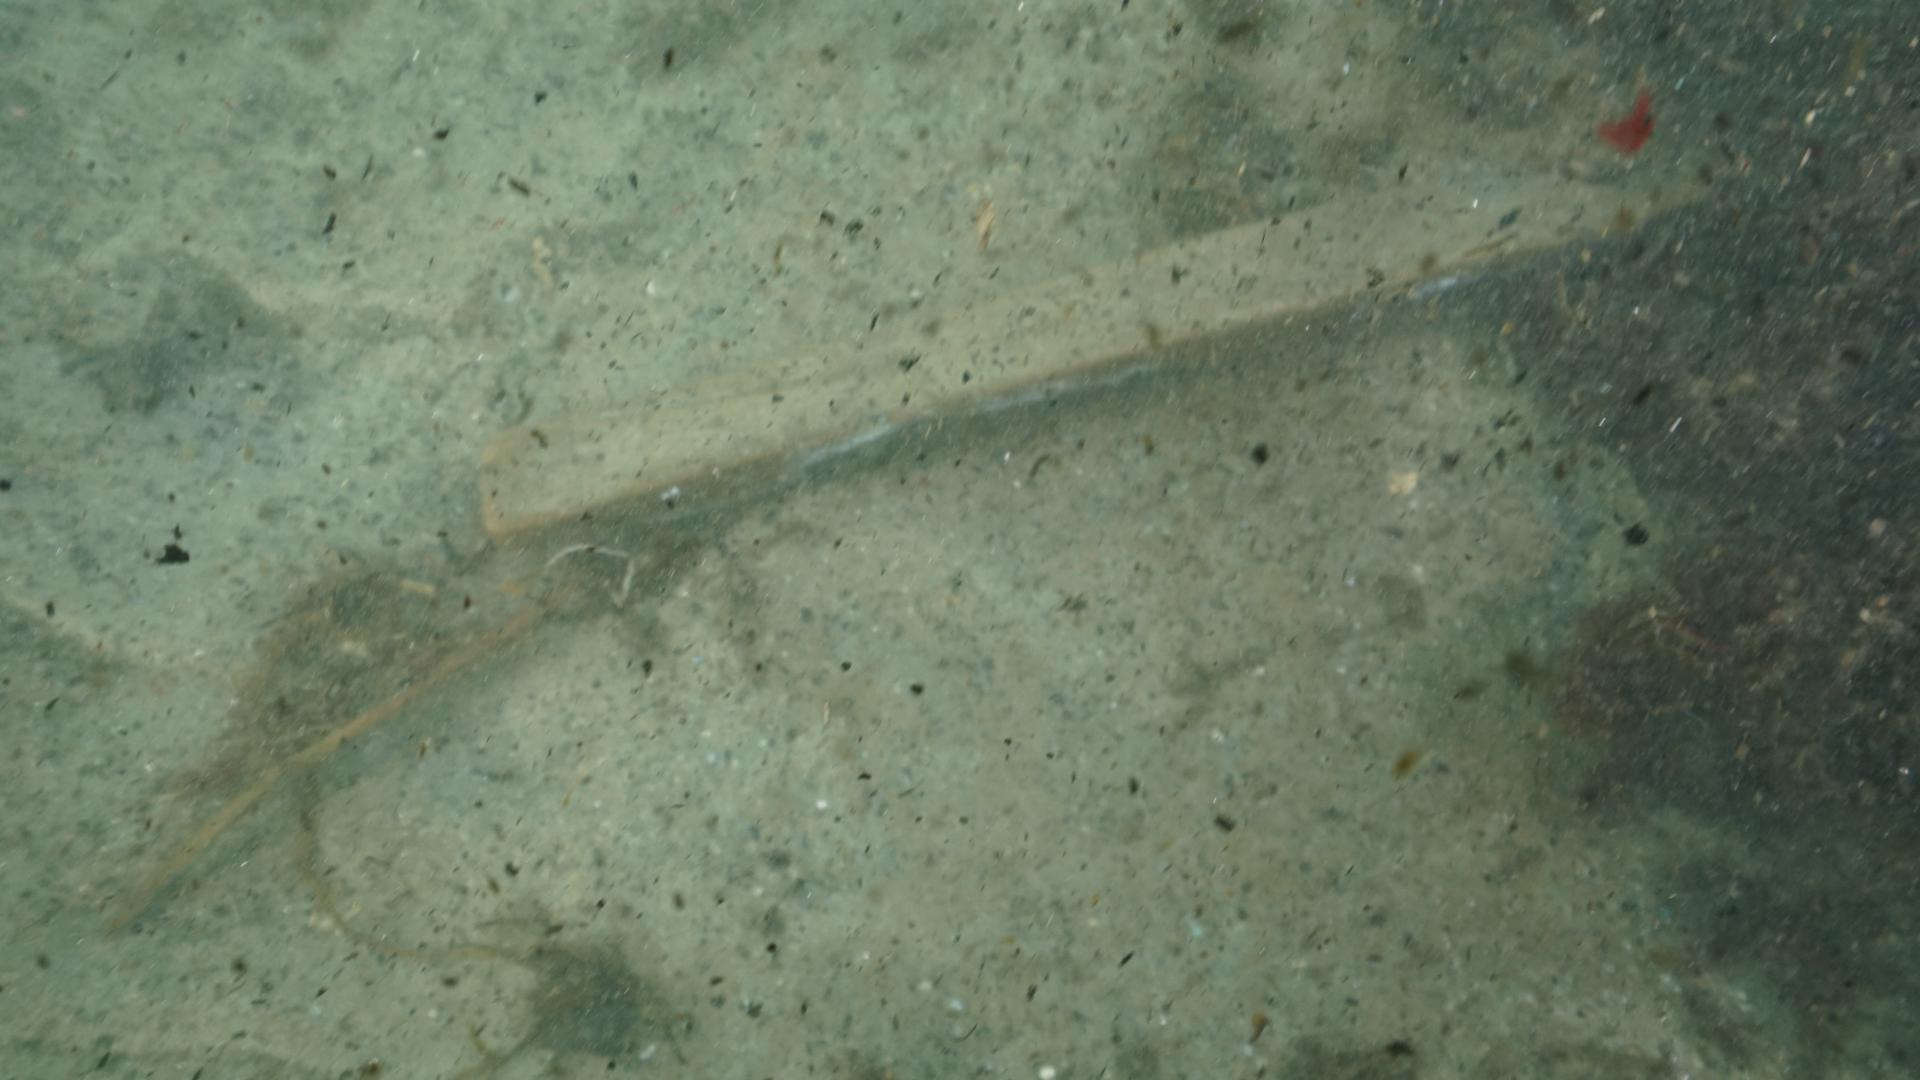wood: (473, 167, 1708, 553)
